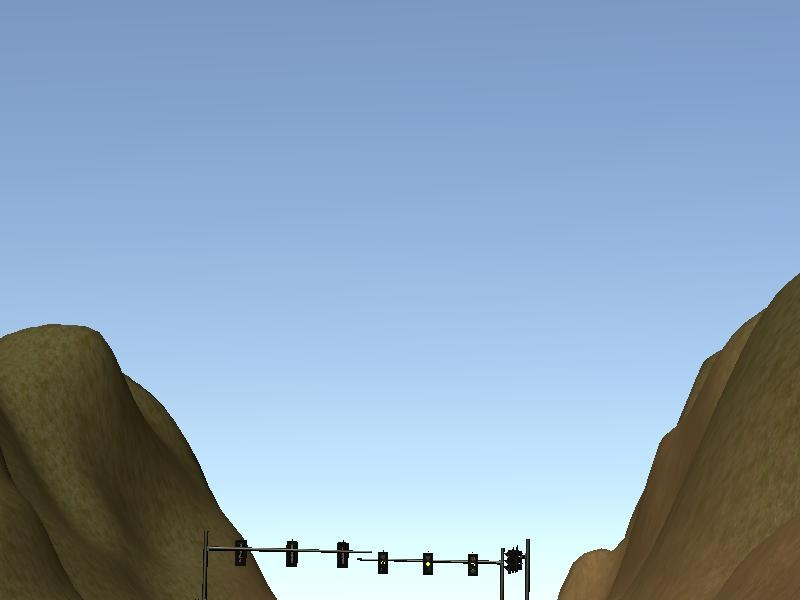traffic_light_yellow: (367, 552, 500, 576)
